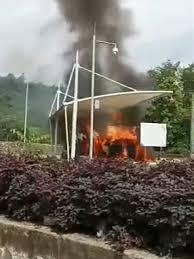fire: (79, 116, 151, 162)
